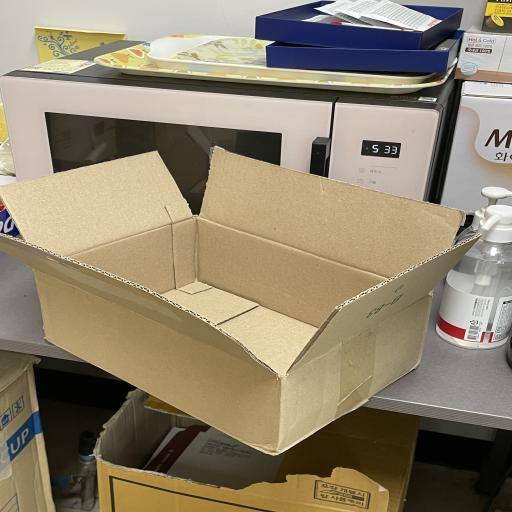box: (1, 144, 482, 458)
opened: (1, 145, 482, 377)
